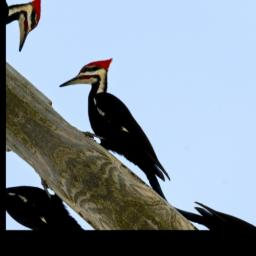Woodpecker: (45, 41, 208, 196)
